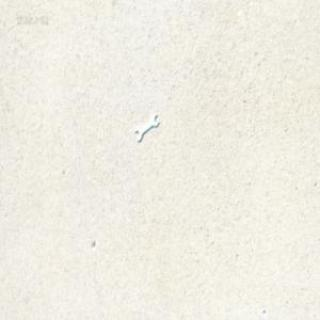Wrenchtrack_idkeyframe: (133, 113, 157, 142)
